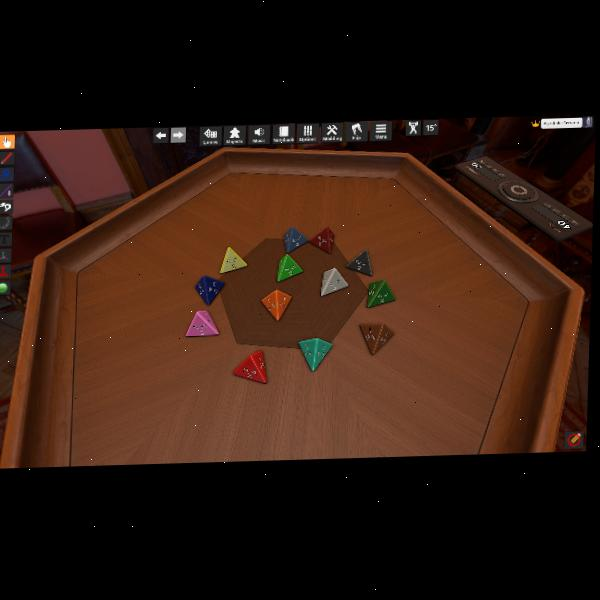d4: (298, 337, 332, 372), (232, 350, 267, 384), (358, 321, 392, 354), (261, 288, 291, 321), (195, 275, 224, 306), (186, 310, 219, 337), (320, 266, 348, 296), (367, 279, 395, 308), (220, 245, 248, 274), (345, 249, 372, 278), (277, 252, 303, 282), (308, 226, 333, 255), (282, 225, 307, 253)
